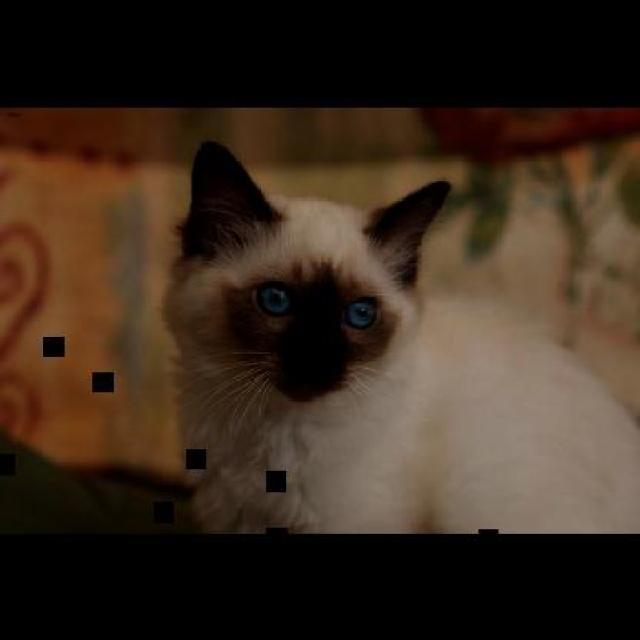unauthorized: (158, 137, 638, 534)
